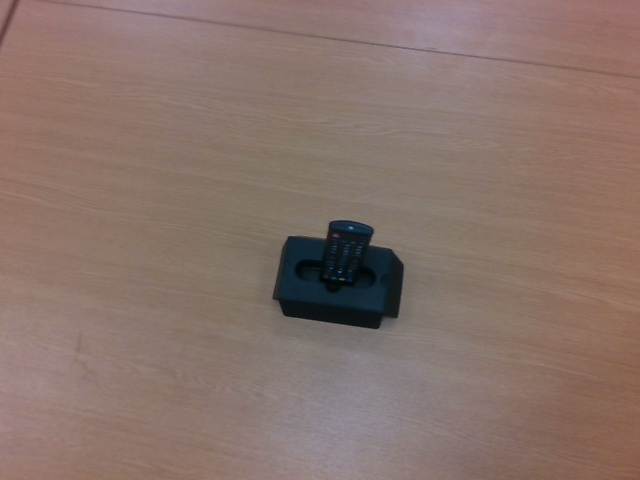remote: (321, 221, 374, 288)
